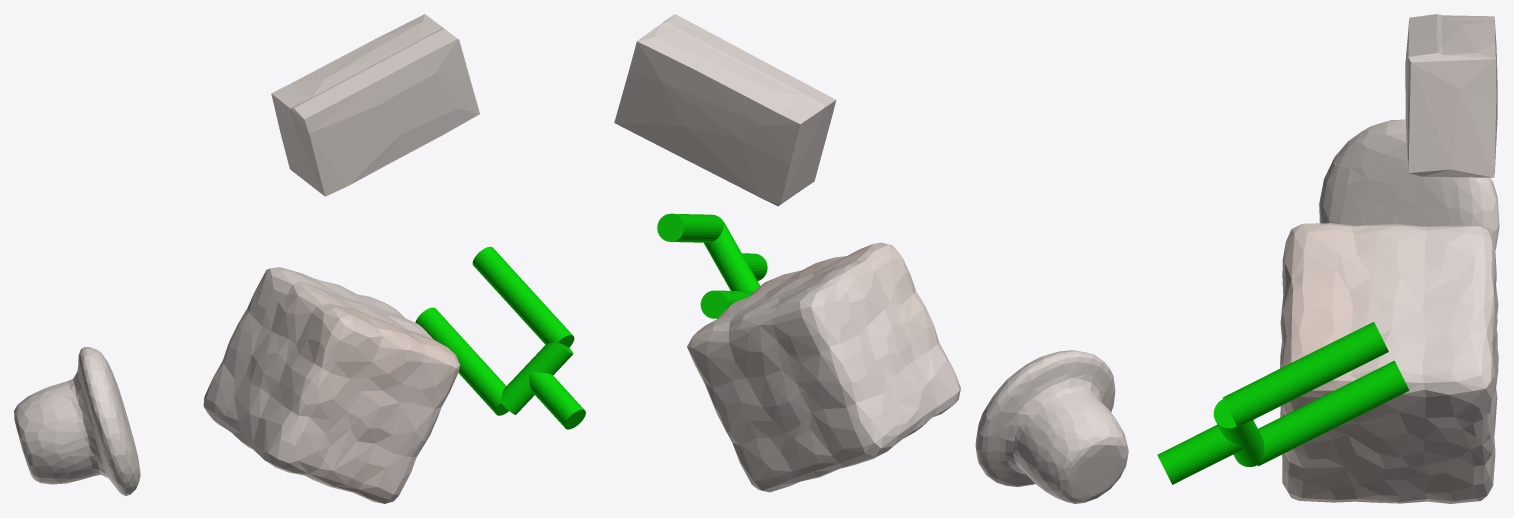
File: round_000_trial_002.obj
3 renders of one model, left to right at view 1: azimuth 30°, elevation 25°; view 2: azimuth 150°, elevation 25°; view 3: azimuth 270°, elevation 25°, orthographic. The views are drawn at different scales.
Parts seen in each view (by area): view 1: geometry_0, geometry_1; view 2: geometry_0, geometry_1; view 3: geometry_0, geometry_1.
Boxes of the visible parts, x1,y1,x2,y2 form: geometry_0: (14,14,479,503); geometry_1: (415,246,585,429); geometry_0: (614,14,1128,503); geometry_1: (657,213,767,318); geometry_0: (1280,14,1499,503); geometry_1: (1157,322,1409,484).
Bounding box in the file's own units: 0.2066 × 0.1686 × 0.1012.
